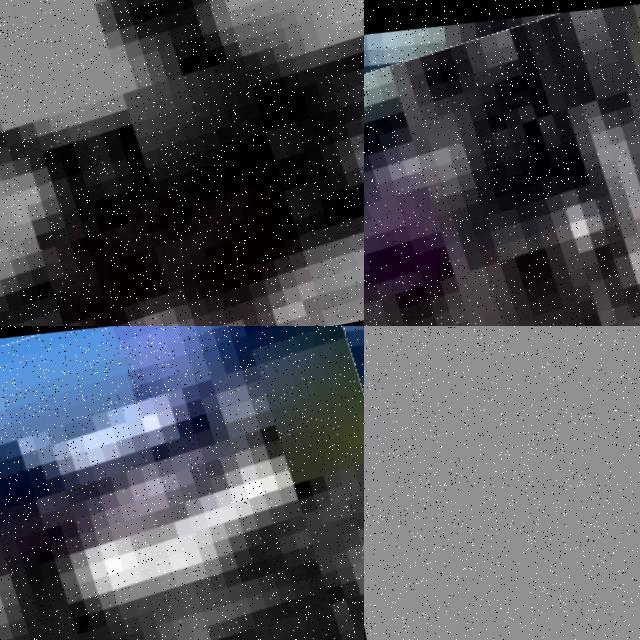drone: (0, 0, 364, 326), (0, 326, 364, 640), (364, 0, 640, 326)
